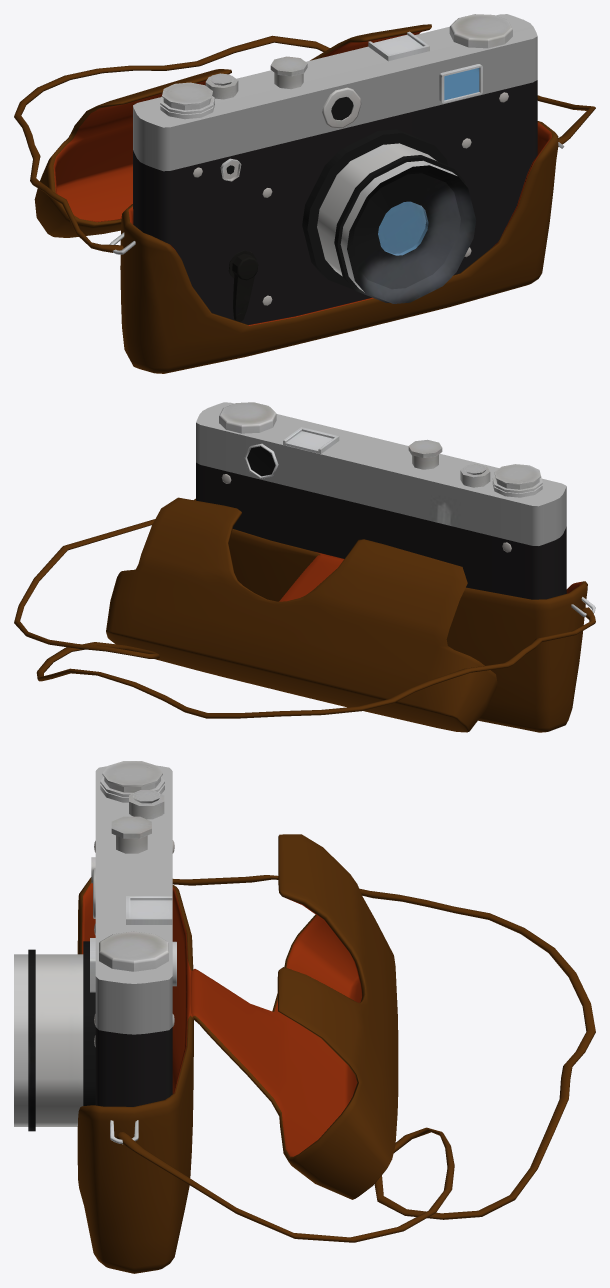
The model's file is Low_Poly_Vintage_Camera.glb.
3 renders of one model, top to bottom at view 1: azimuth 30°, elevation 25°; view 2: azimuth 150°, elevation 25°; view 3: azimuth 270°, elevation 25°, orthographic. The views are drawn at different scales.
Visible parts, largest first — view 1: defaultMaterial (×17); view 2: defaultMaterial (×12); view 3: defaultMaterial (×13).
Part boxes in pixels (x1,y1,x2,y2): defaultMaterial (×17): [14, 14, 595, 373]; defaultMaterial (×12): [14, 402, 595, 732]; defaultMaterial (×13): [14, 761, 595, 1273].
Bounding box in the file's own units: 2 × 0.9497 × 1.58.
Materials: 7 (7 with a texture image).
